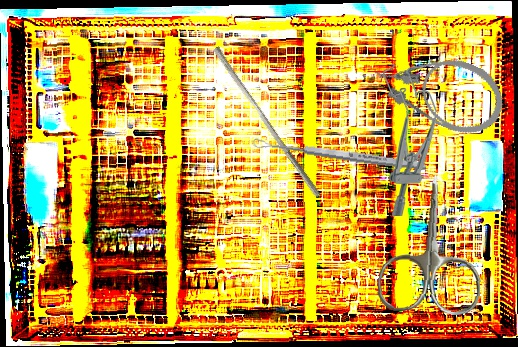Cannula: (365, 31, 514, 145)
Iris Scissors: (376, 171, 488, 317)
Pusher: (207, 45, 327, 199)
Speculum: (380, 63, 438, 217)
Surgical Spoon: (252, 136, 427, 173)
